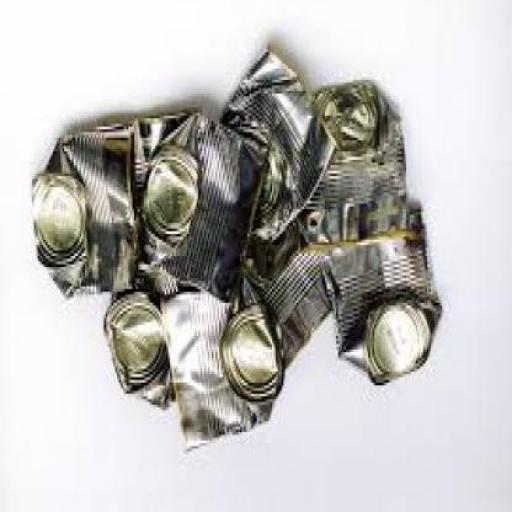metal: (140, 116, 268, 308), (225, 47, 340, 245), (160, 289, 288, 457), (333, 206, 444, 388), (32, 124, 142, 297), (314, 86, 420, 240), (250, 236, 340, 370), (106, 295, 177, 415)
